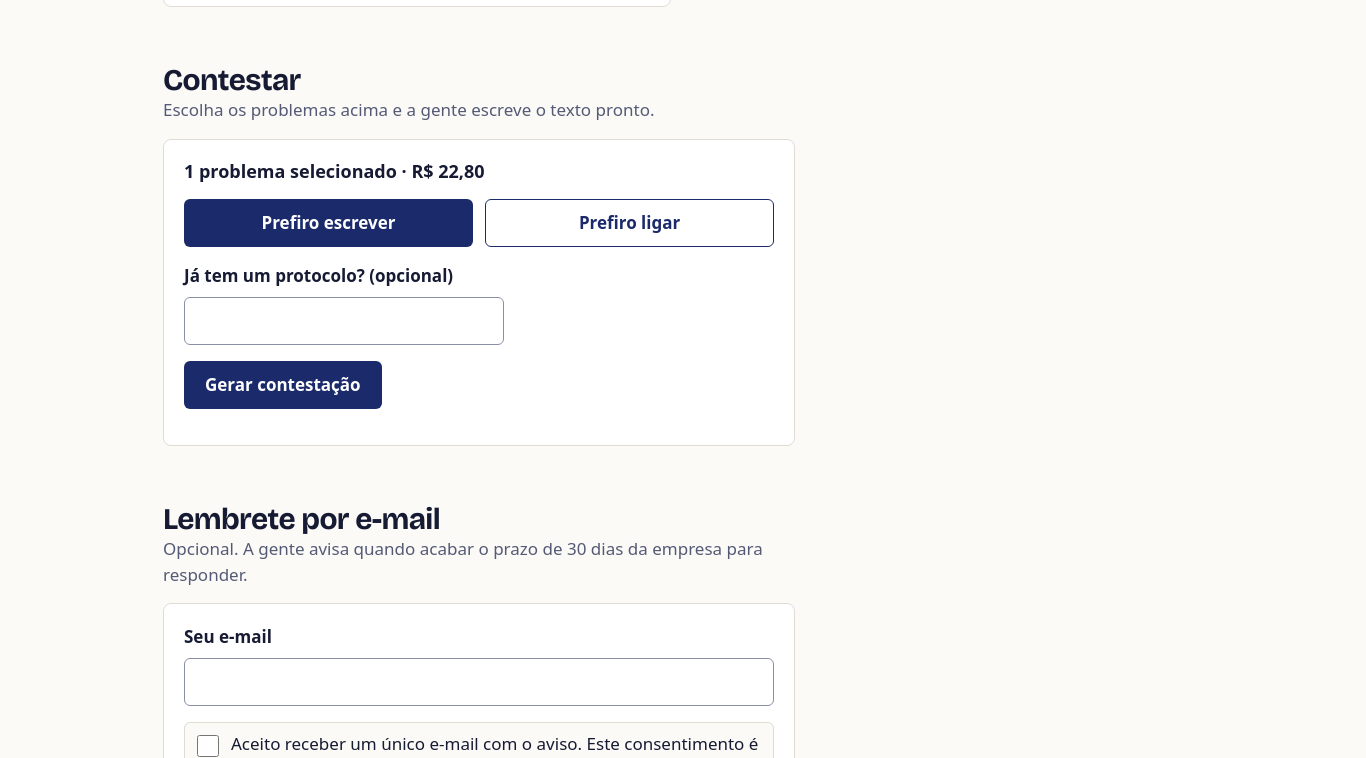
Test case: Result: contestação (RF11/RF12) › mostra passos na ordem e prazos; muda a seleção e avisa que está desatualizado
(page scrolled)
Click the button "Gerar contestação" at (283, 385), box [184,361,382,409]
(page scrolled)
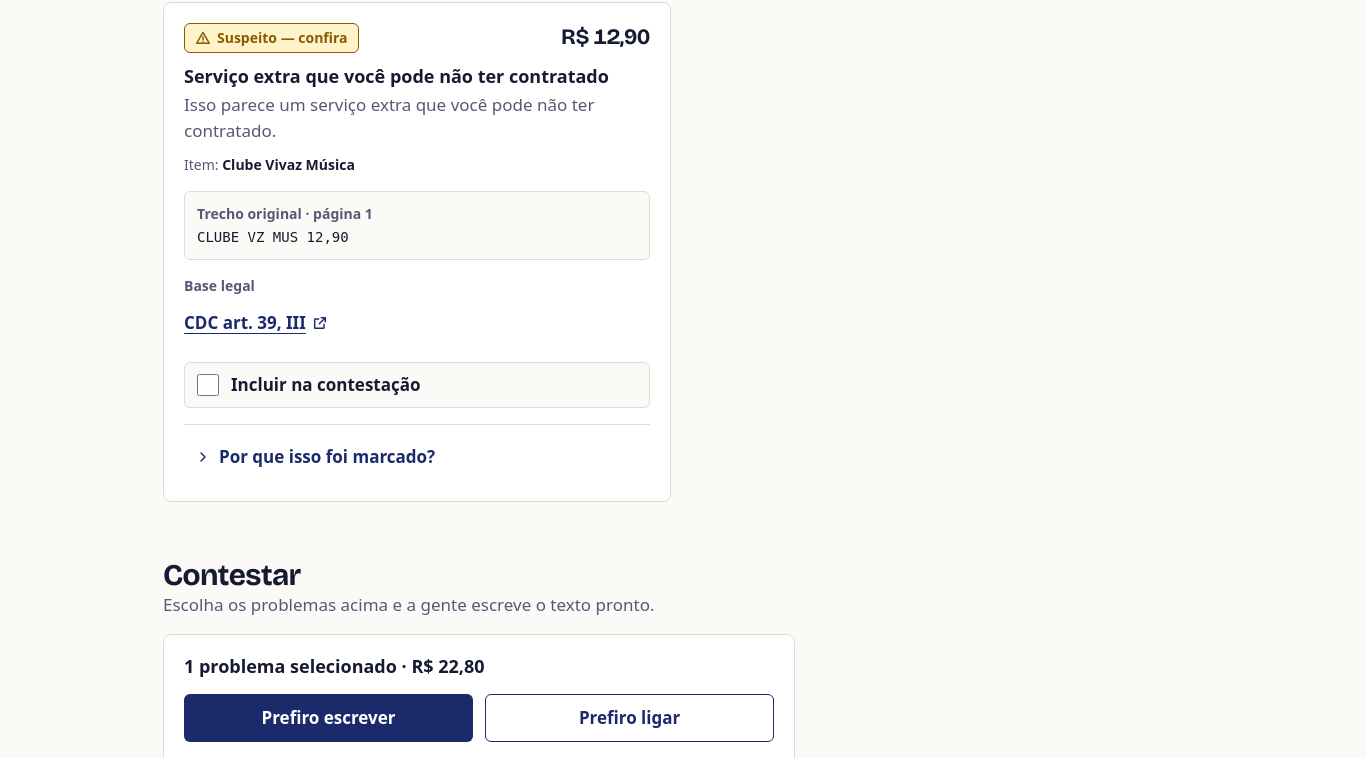
Click the checkbox at (208, 385), box [197,374,219,396]
(page scrolled)
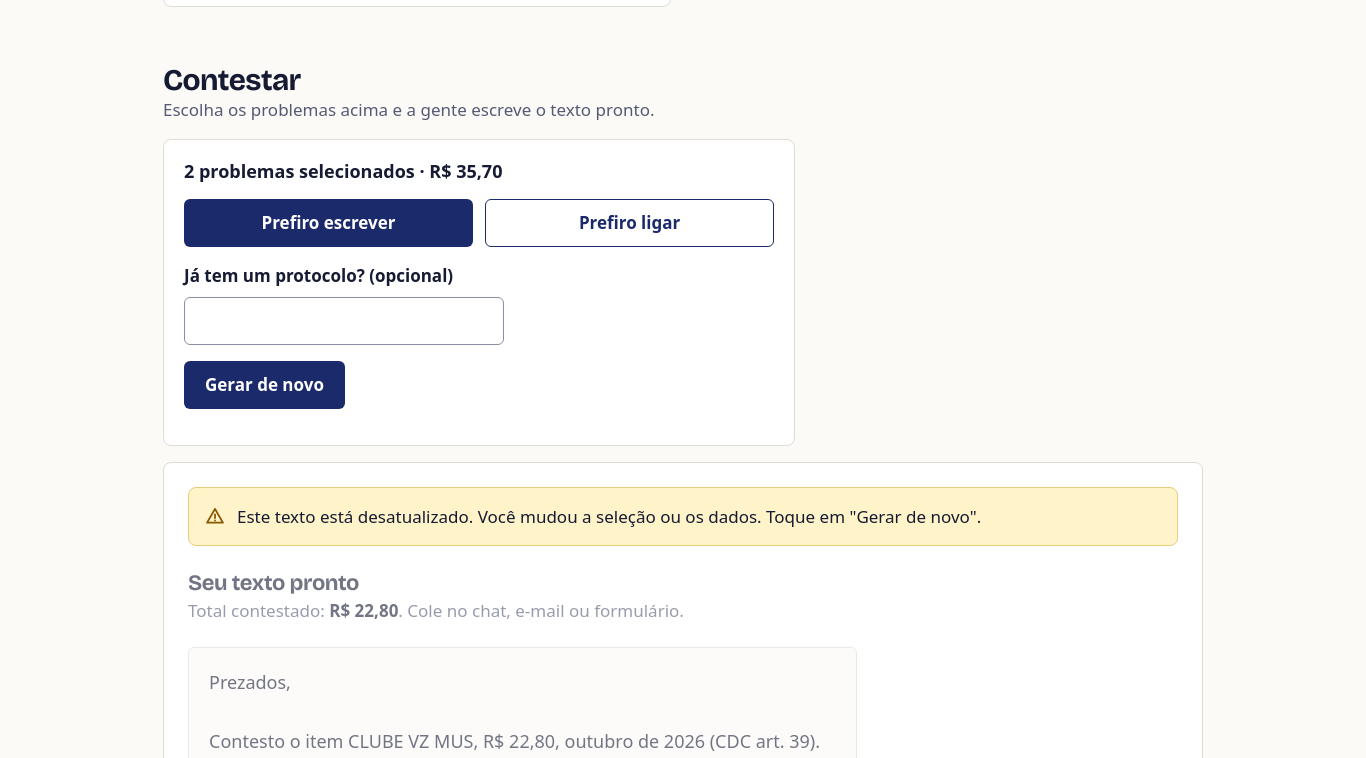
Expected: the button "Gerar de novo" is enabled, [184,361,345,409]
Now the text "texto está desatualizado" is shown, box [237,505,981,528]
